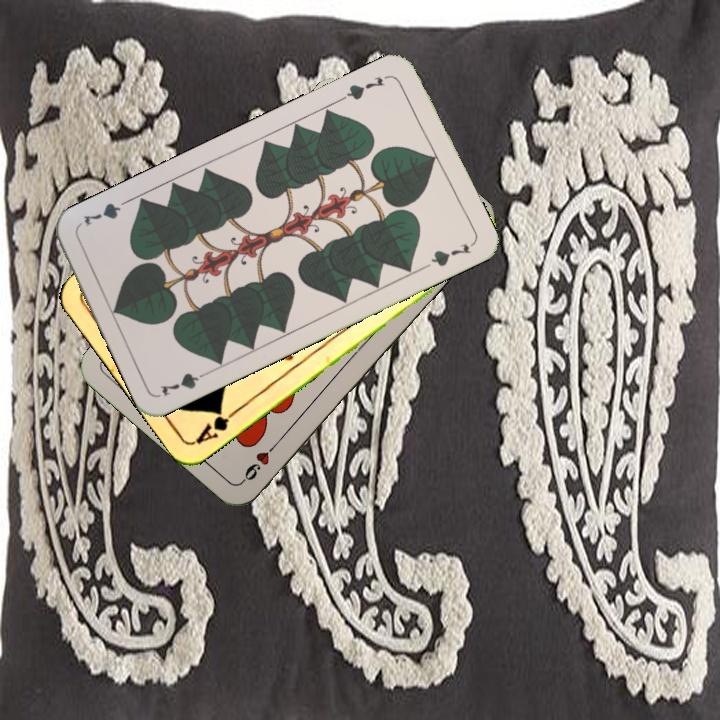G7: (156, 366, 213, 399), (337, 72, 388, 103)
GA: (192, 404, 242, 447)
H9: (238, 437, 282, 485)
